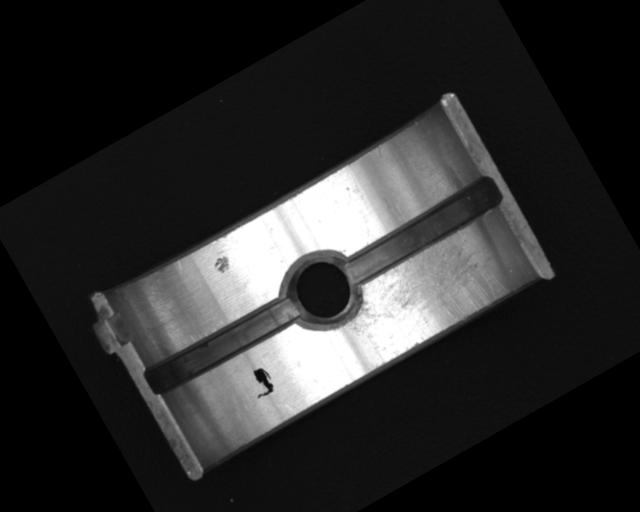blot: (244, 364, 279, 401)
bruise: (211, 253, 234, 275)
gap: (336, 170, 508, 290), (143, 289, 304, 400)
hole: (272, 240, 373, 343)
scratch: (333, 217, 521, 371)
